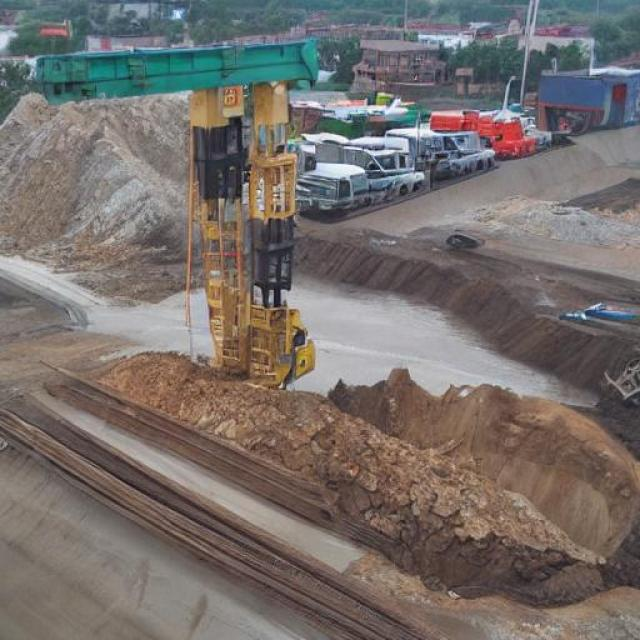crane: (414, 188, 472, 357), (209, 271, 253, 375)
excavator: (226, 309, 346, 423), (558, 360, 637, 416)
machinery: (138, 398, 210, 494)
truck: (0, 386, 154, 513), (17, 311, 93, 390)
